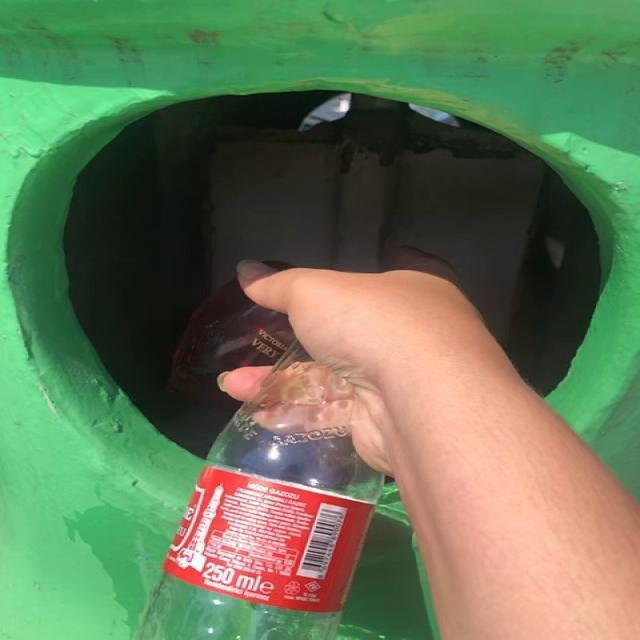Glass: (168, 278, 295, 404)
